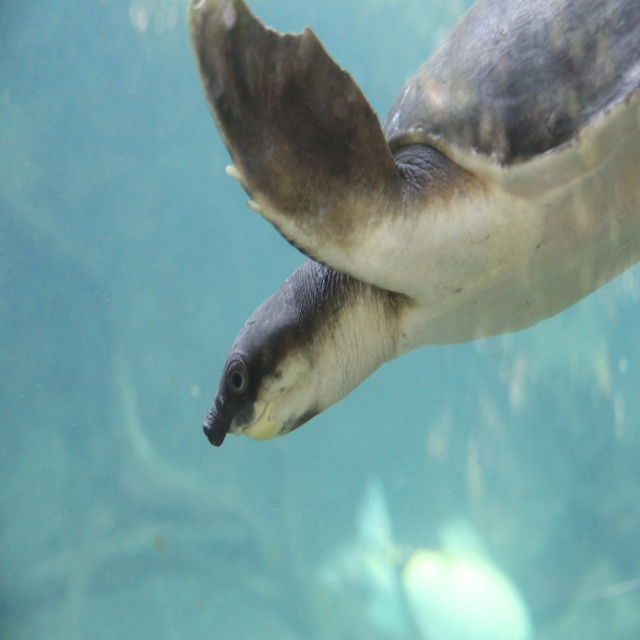Sea turtle: (190, 0, 640, 454)
